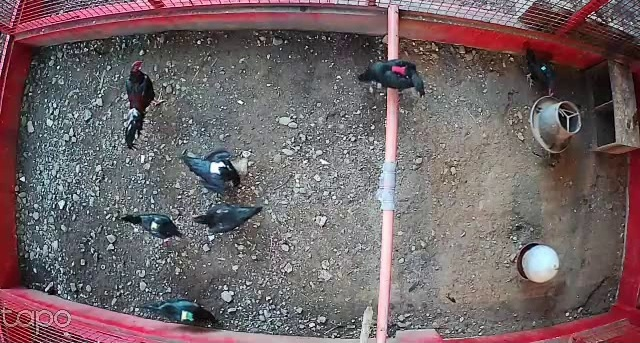Chicken: (180, 143, 244, 197), (186, 197, 265, 234), (357, 59, 428, 100), (119, 204, 186, 245), (521, 45, 562, 101)
Rooster: (122, 59, 167, 150)
Saddle_Color_Blue: (542, 66, 546, 70)
Saddle_Color_Red: (388, 64, 408, 77)
Saddle_Color_White: (210, 160, 228, 174)
Saddle_Color_Yellow: (149, 219, 160, 233)
